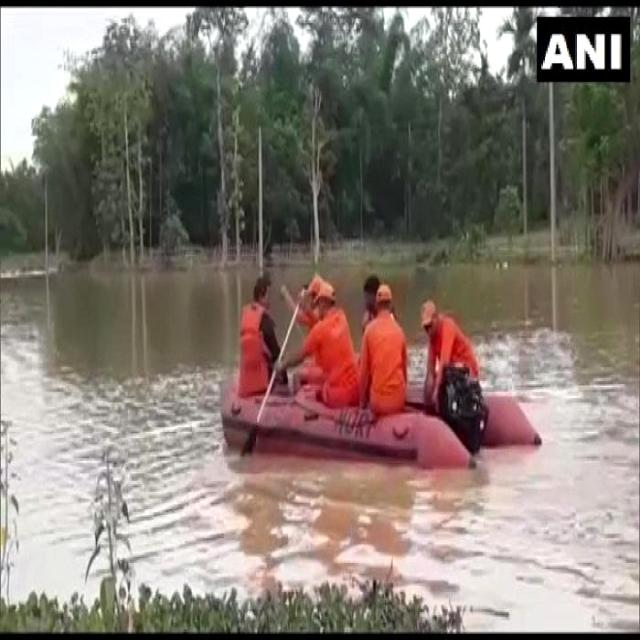rescuer: (416, 290, 476, 412), (358, 277, 409, 415), (306, 278, 357, 402), (235, 267, 278, 403), (284, 270, 324, 336)
